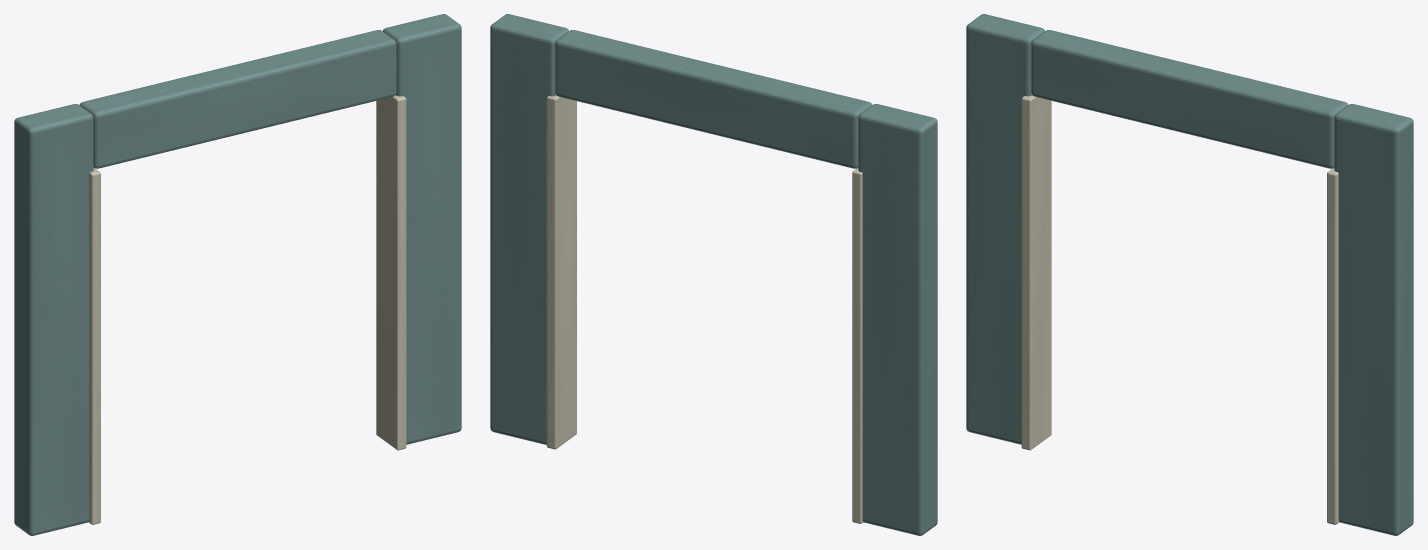
The model's file is Partition_Door_4m.glb.
3 views of the same model, side by side, from view 1: azimuth 30°, elevation 25°; view 2: azimuth 150°, elevation 25°; view 3: azimuth 330°, elevation 25° (orthographic).
Parts seen in each view (by area): view 1: Partition_Door_4m; view 2: Partition_Door_4m; view 3: Partition_Door_4m.
Boxes of the visible parts, x1=… form: Partition_Door_4m: x1=14, y1=14, x2=461, y2=535; Partition_Door_4m: x1=490, y1=14, x2=937, y2=535; Partition_Door_4m: x1=966, y1=14, x2=1413, y2=535.
Size of the model in its own units: 4 by 3.6 by 0.35.
2 materials, 2 textured.
